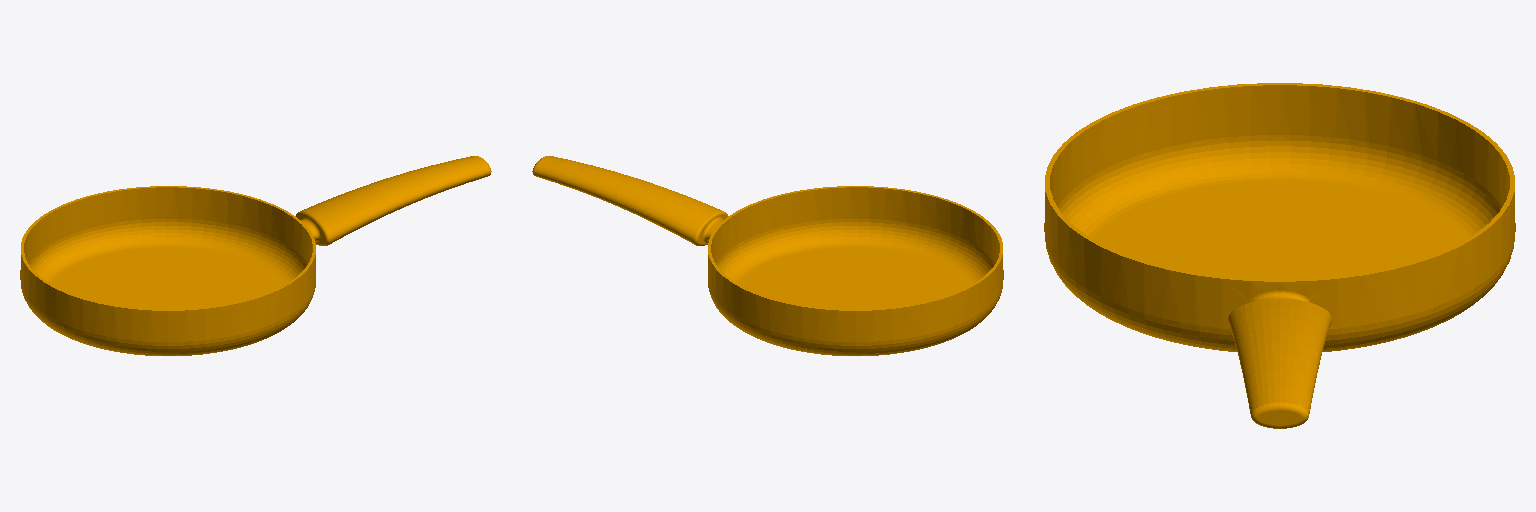
The robot description file, URDF, robot "002_pan":
<?xml version="1.0"?>
<robot name="002_pan">
  <link name="002_pan">
    <visual>
      <origin xyz="0.0 0.0 0.0"/>
      <geometry>
        <mesh filename="002_pan/002_pan_visual.obj" scale="1.5 1.5 1.5"/>
      </geometry>
    </visual>
    <collision>
      <origin xyz="0.0 0.0 0.0"/>
      <geometry>
        <mesh filename="002_pan/002_pan_collision.obj" scale="1.5 1.5 1.5"/>
      </geometry>
    </collision>
    <inertial>
      <mass value="1.0"/>
      <inertia ixx="0.0001" ixy="0.0" ixz="0.0" iyy="0.0001" iyz="0.0" izz="0.0001"/>
    </inertial>
  </link>
</robot>

--- What the picture shows (computed from the rendered views, not written in the file) ---
3 views of the same robot in one strip: view 1: azimuth 30°, elevation 25°; view 2: azimuth 150°, elevation 25°; view 3: azimuth 270°, elevation 25° (orthographic).
Robot: 002_pan — 1 links, 0 joints (none); root link 002_pan; default pose: all joints at 0.
Visible links, largest first — view 1: 002_pan; view 2: 002_pan; view 3: 002_pan.
Boxes of the visible links, x1,y1,x2,y2 form: 002_pan: (20, 156, 491, 355); 002_pan: (532, 156, 1003, 355); 002_pan: (1044, 83, 1515, 428).
Size in the robot's own frame: 0.4673 by 0.27 by 0.0685 metres.
1 mesh visuals loaded from 1 distinct referenced files (1 OBJ).